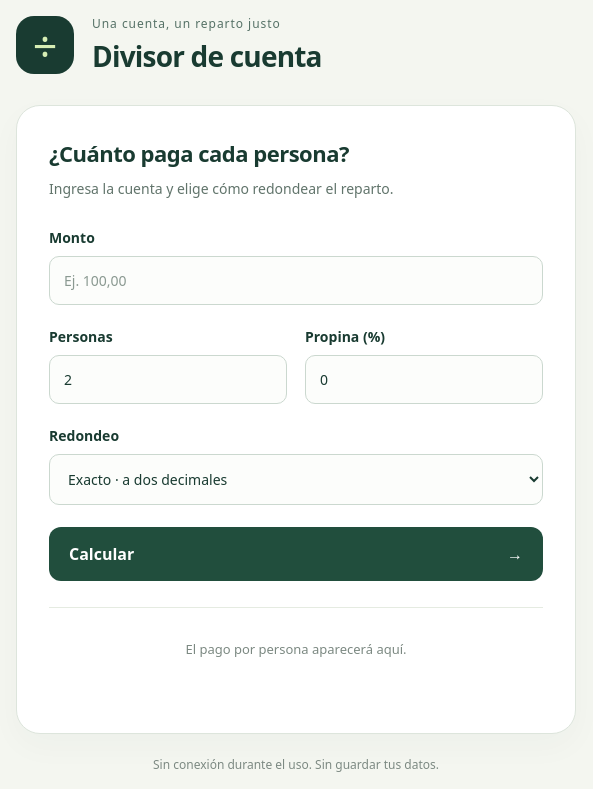
Scenario: Aclaraciones y transiciones de la spec › propina -1 se rechaza
Type "50" into the field labelled "Monto" at coordinates (296, 281), box [49,256,543,305]
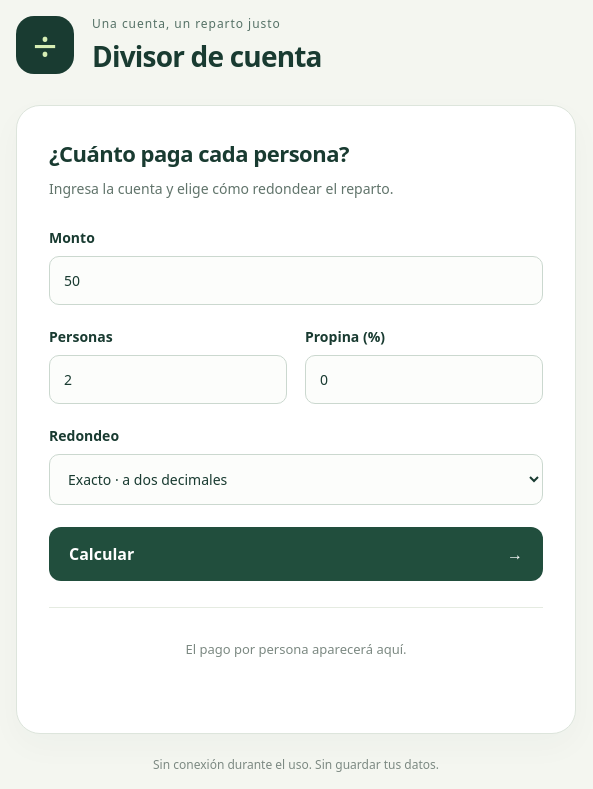
Replace the text in the field labelled "Personas" with "4" at coordinates (168, 380), box [49,355,287,404]
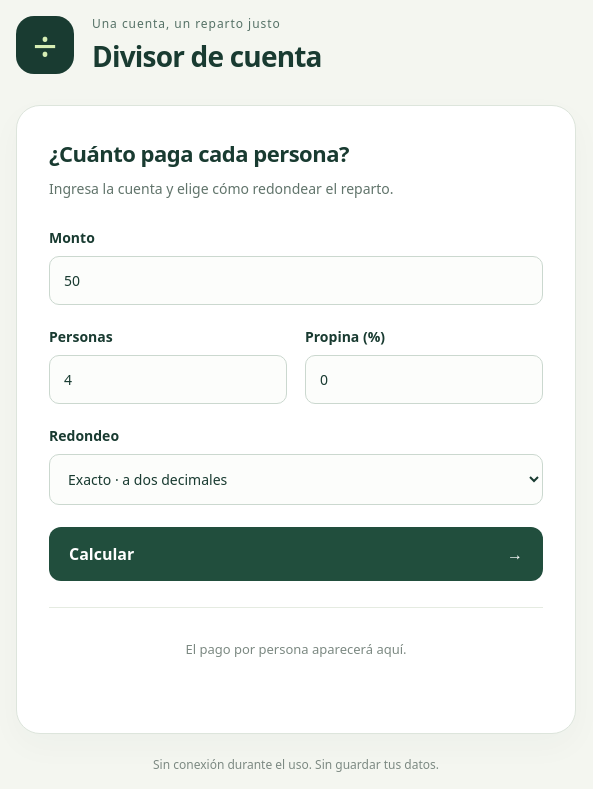
Replace the text in the field labelled "Propina (%)" with "-1" at coordinates (424, 380), box [305,355,543,404]
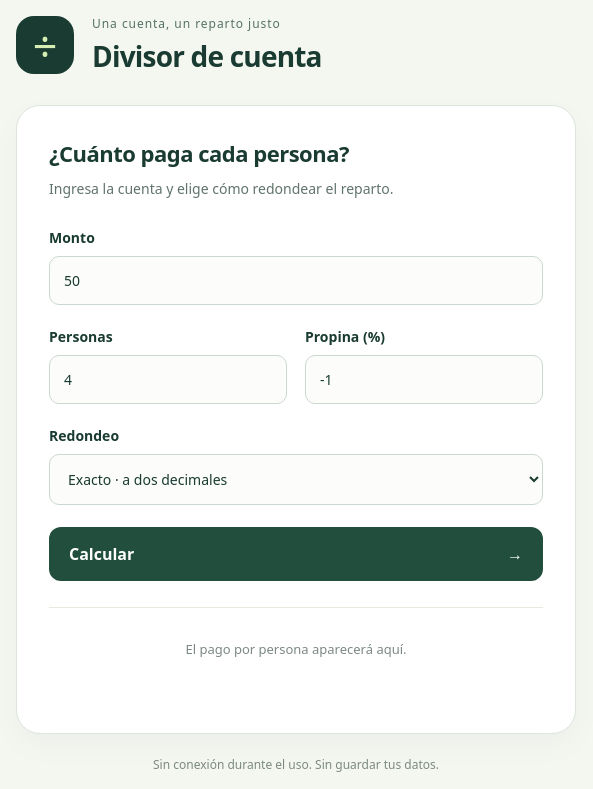
Click the button "Calcular →" at coordinates (102, 554), box [49,527,543,581]
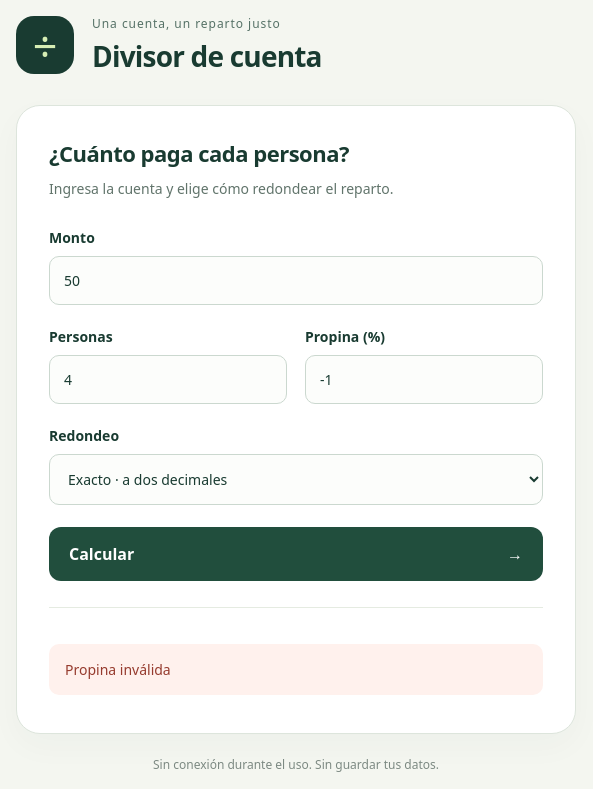
Now the message reads "Propina inválida", box [65,660,171,679]
